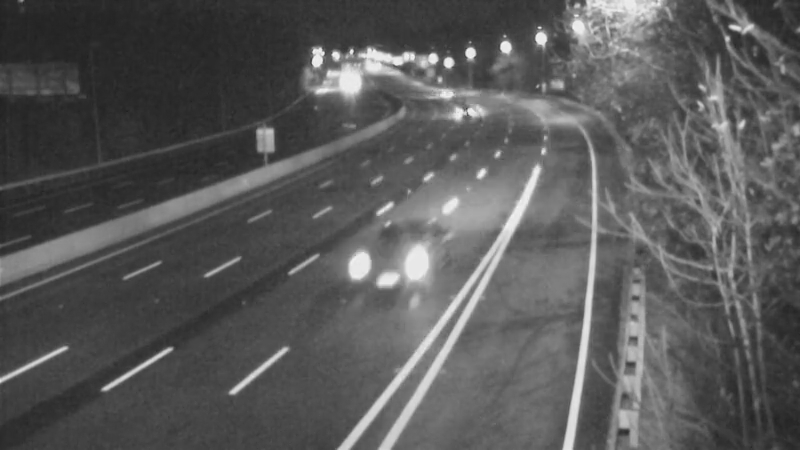vehicle: (367, 213, 447, 293), (419, 65, 469, 115), (436, 87, 486, 137), (320, 59, 370, 109)
